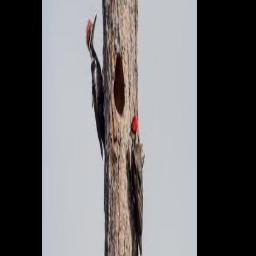Woodpecker: (86, 11, 105, 158), (129, 115, 143, 256)
